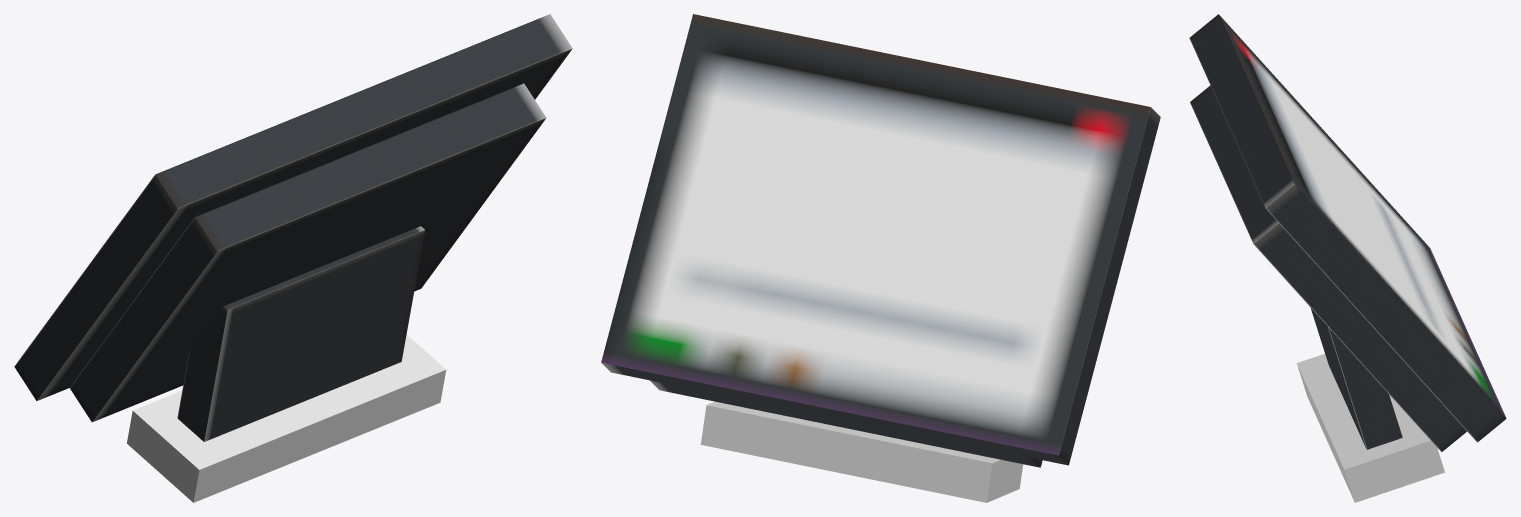
File: minecraft_cash_register.glb
3 renders of one model, left to right at view 1: azimuth 30°, elevation 25°; view 2: azimuth 150°, elevation 25°; view 3: azimuth 270°, elevation 25°, orthographic. The views are drawn at different scales.
Parts seen in each view (by area): view 1: Object_2, Object_4; view 2: Object_3, Object_4, Object_2; view 3: Object_2, Object_3, Object_4.
Part boxes in pixels (x1,y1,x2,y2): Object_2: (14,14,572,441); Object_4: (127,334,446,502); Object_3: (601,14,1150,455); Object_4: (700,401,1023,502); Object_2: (601,107,1160,467); Object_2: (1189,14,1506,452); Object_3: (1219,15,1506,418); Object_4: (1296,353,1444,502).
Bounding box in the file's own units: 0.786 × 0.6585 × 0.5203.
3 materials, 2 textured.
